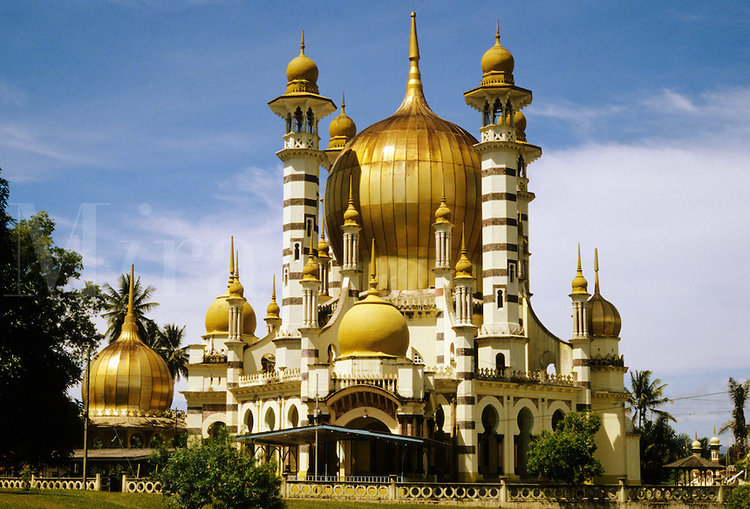Mosque: (88, 21, 630, 488)
